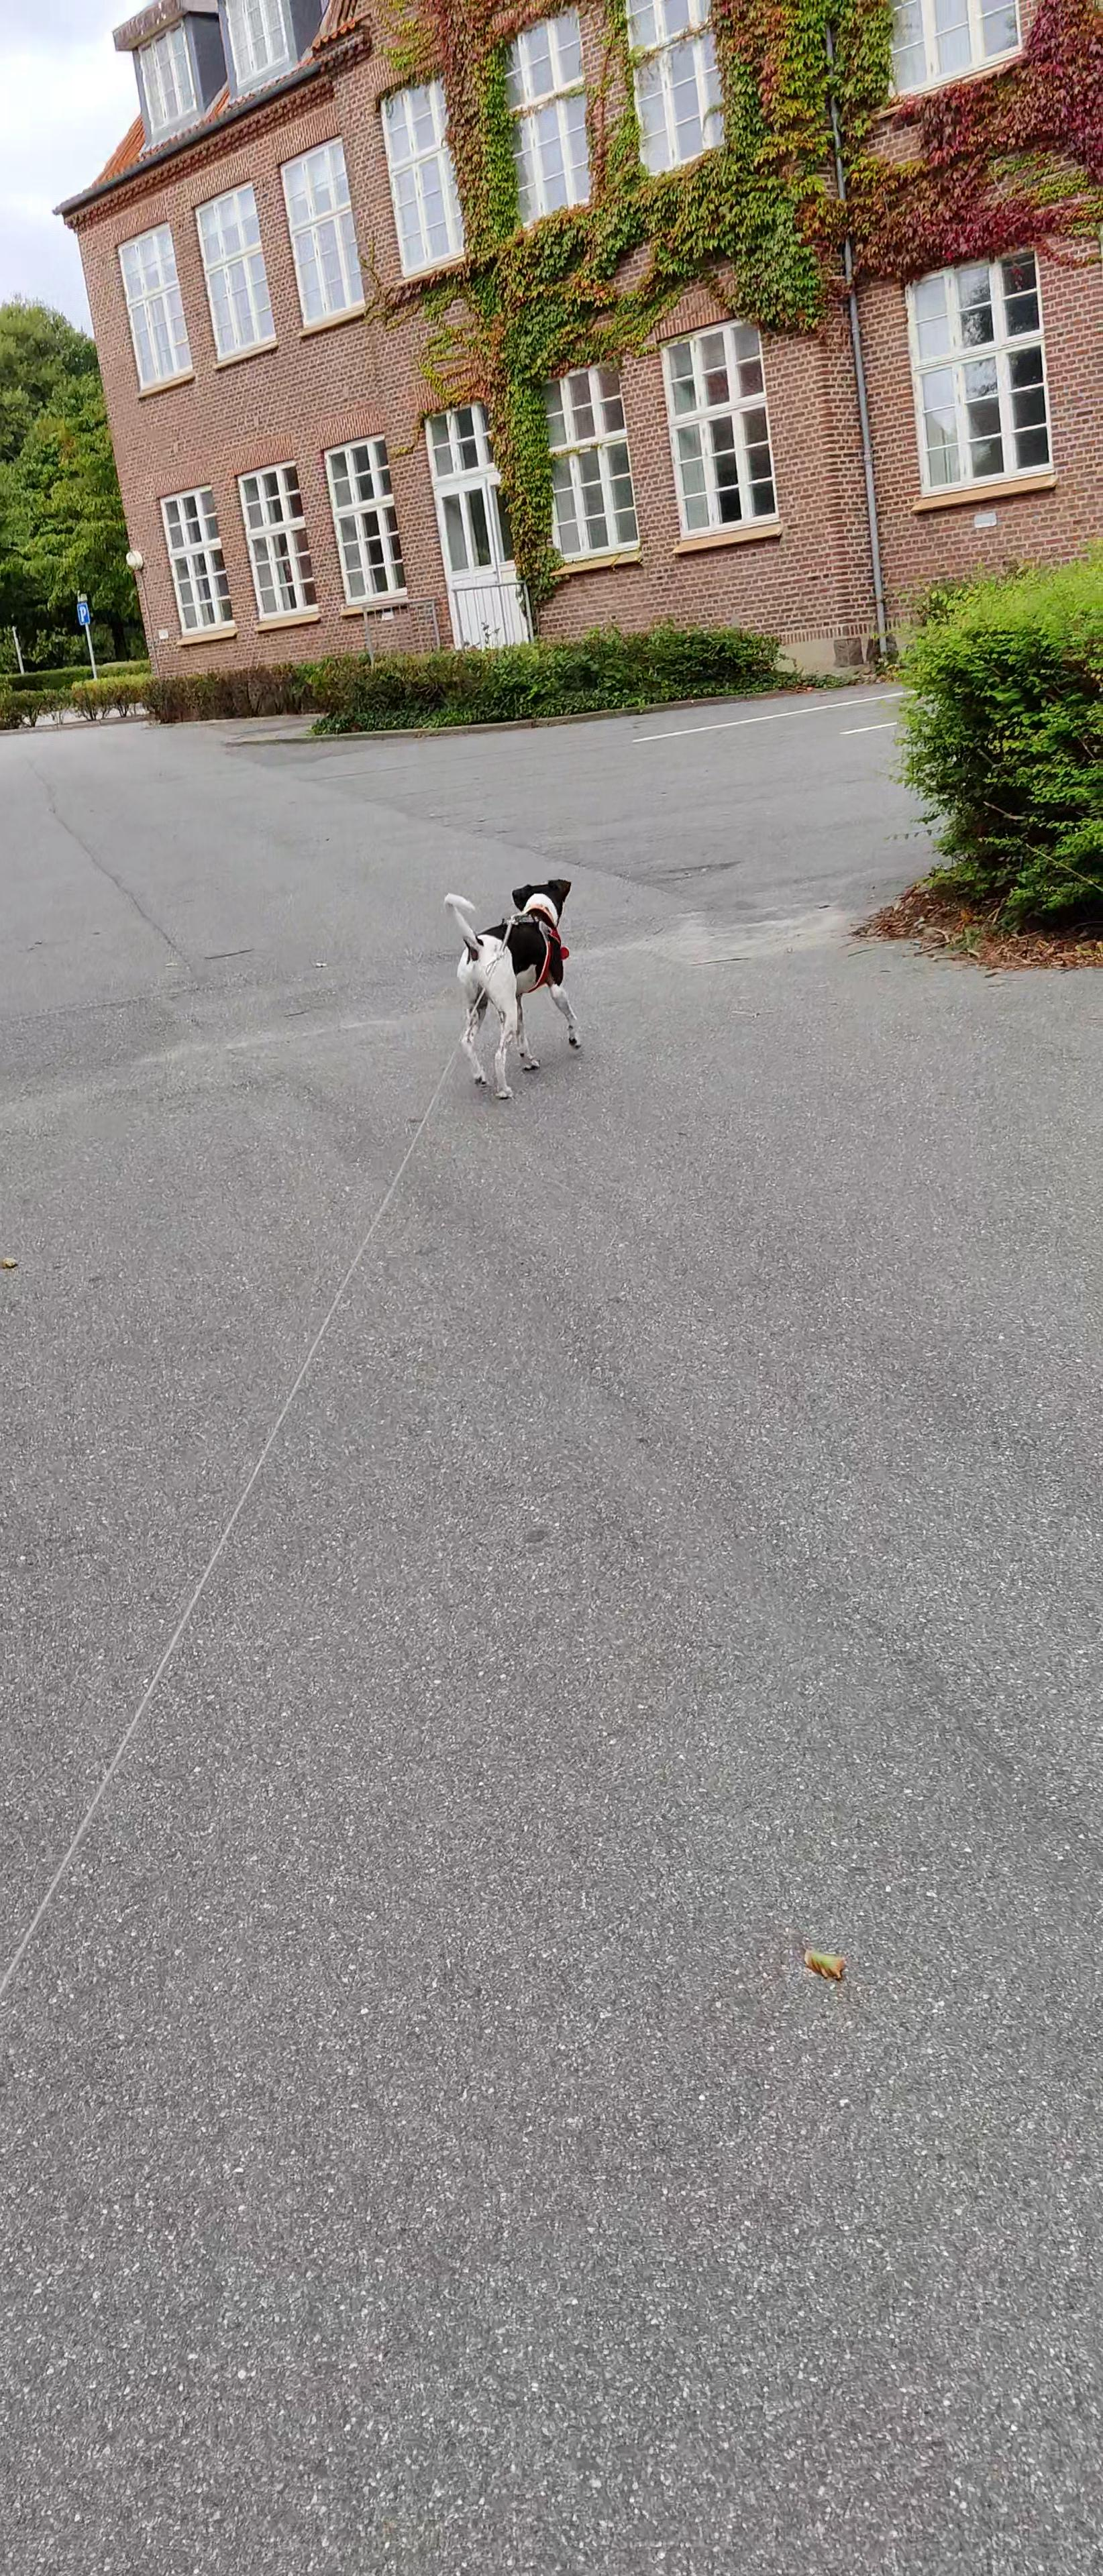Dog: (439, 874, 588, 1101)
